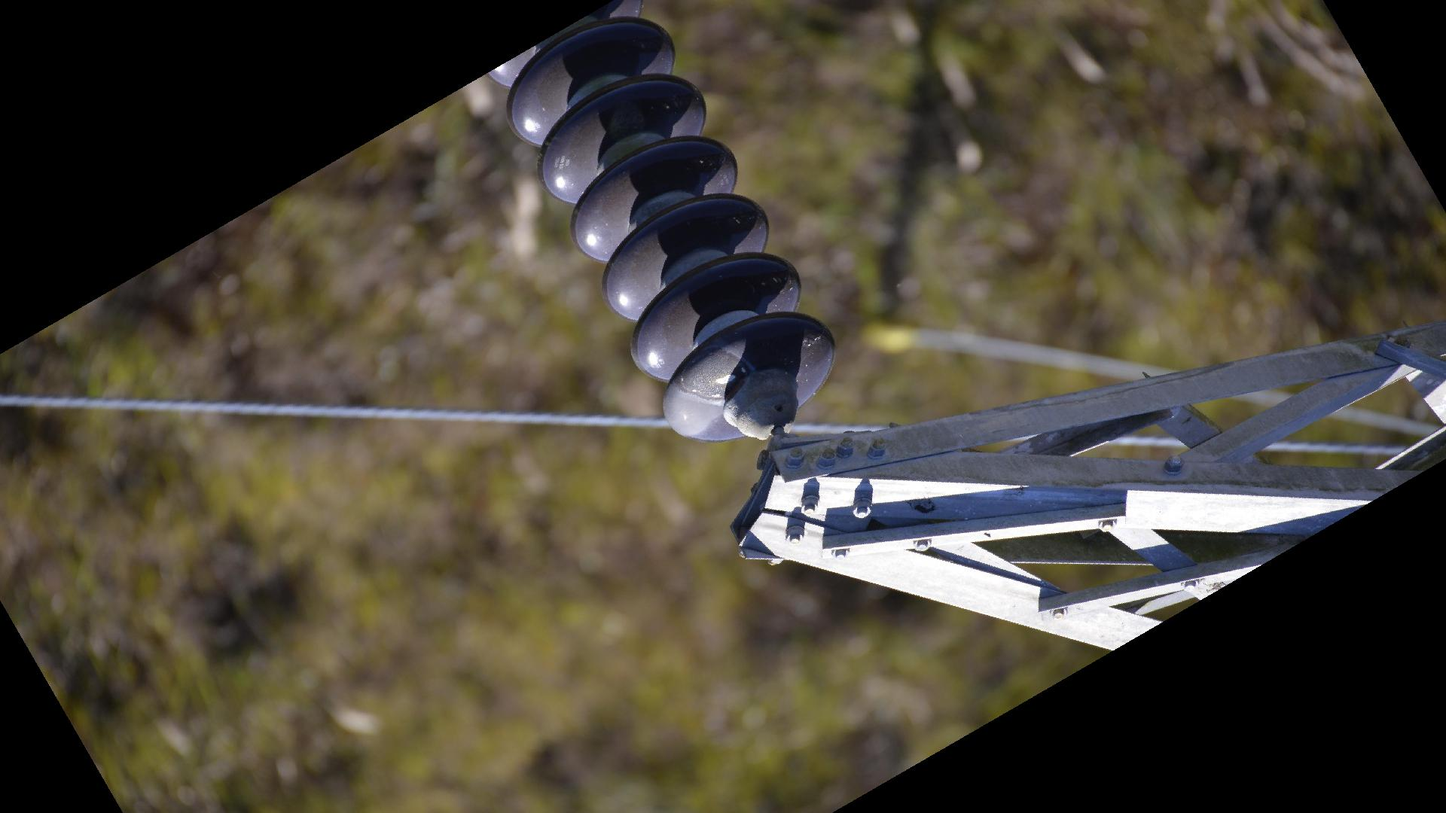insulator: (478, 1, 842, 449)
insulator_flashover: (670, 344, 752, 404)
